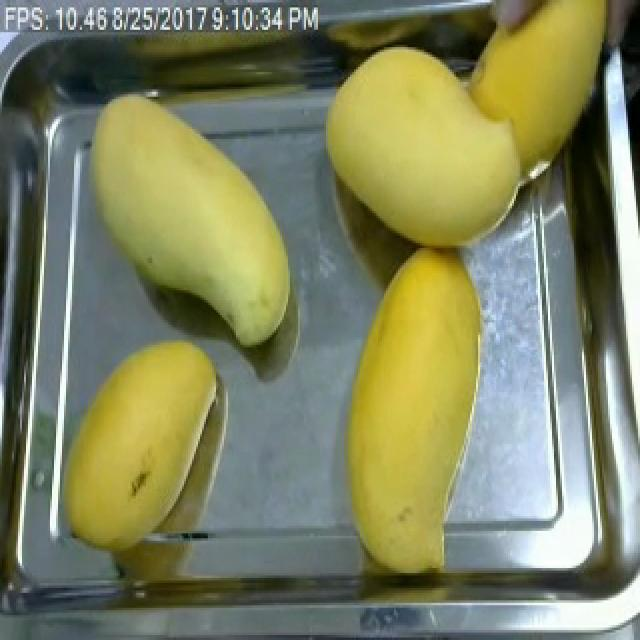fruit: (328, 238, 498, 586), (74, 82, 302, 337), (312, 37, 544, 263), (42, 330, 224, 563), (456, 0, 632, 213)
